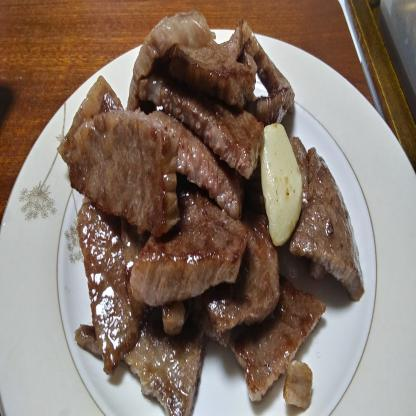Carne: (58, 107, 179, 234), (73, 187, 143, 375), (298, 141, 378, 304), (150, 73, 264, 179), (235, 279, 325, 399), (126, 113, 237, 210), (128, 206, 237, 299), (130, 290, 201, 416), (211, 223, 287, 338), (169, 22, 259, 103)
